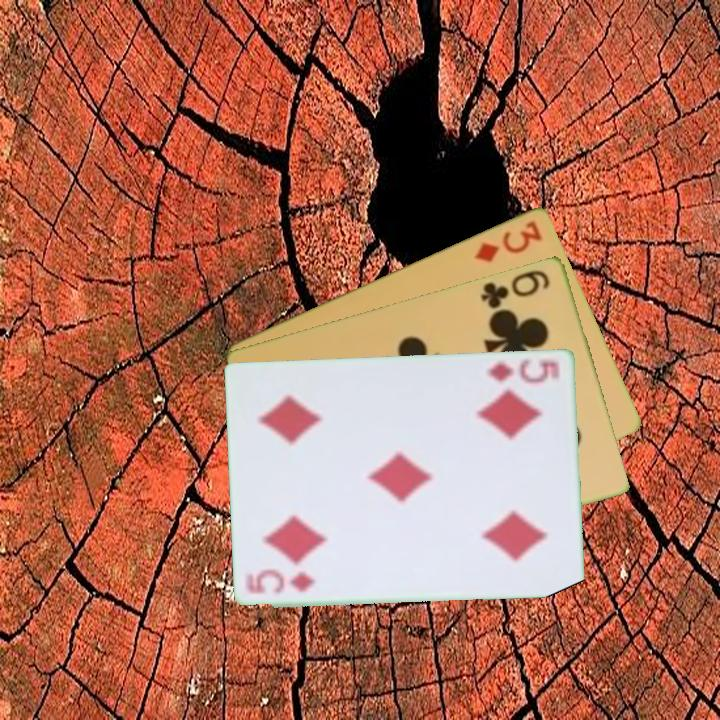3d: (470, 216, 545, 265)
5d: (485, 356, 563, 386), (242, 568, 319, 596)
6c: (477, 266, 553, 311)
